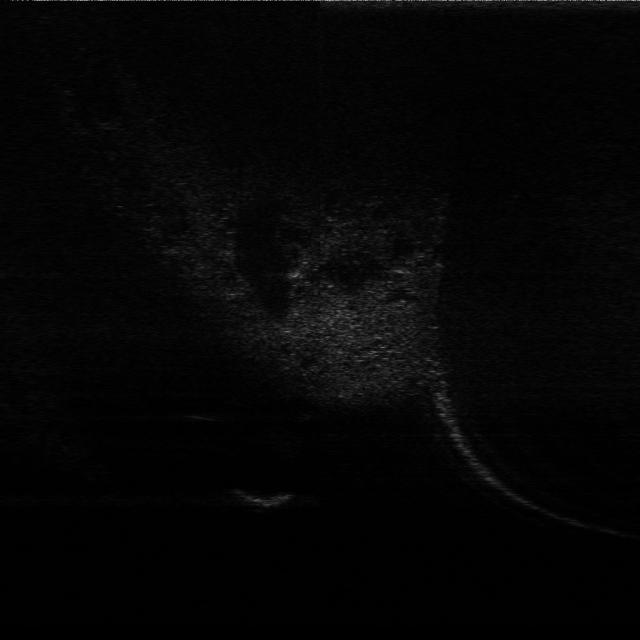square cage: (230, 480, 300, 516)
